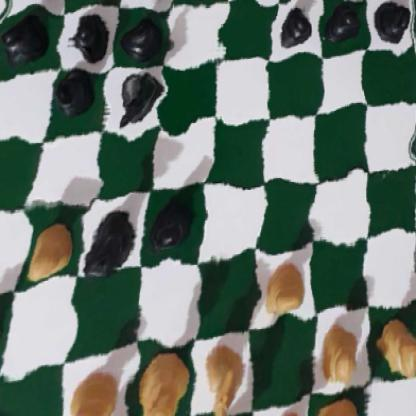black-bishop: (47, 67, 101, 121)
black-knight: (115, 65, 160, 122)
black-pawn: (147, 190, 194, 258), (63, 10, 114, 65), (0, 15, 54, 64), (324, 0, 367, 45), (122, 13, 163, 60), (276, 0, 316, 48), (374, 0, 410, 43)
black-queen: (75, 213, 141, 282)
black-rook: (3, 0, 68, 7)
white-bishop: (257, 401, 312, 416)
white-king: (187, 408, 253, 416)
white-knight: (193, 339, 246, 416)
white-pawn: (60, 360, 129, 416), (18, 221, 74, 288), (255, 258, 302, 327), (380, 309, 416, 377), (0, 311, 5, 387)
white-queen: (135, 337, 190, 416)
white-rook: (312, 389, 378, 416)
